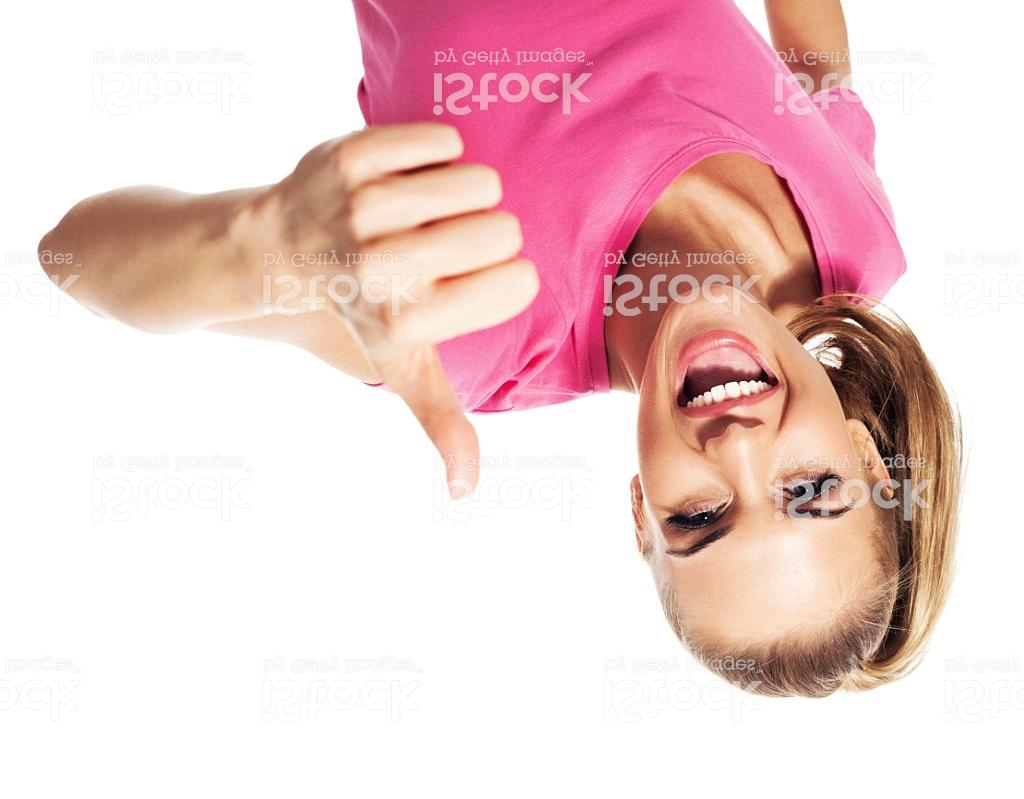thumbsdown: (303, 116, 545, 504)
